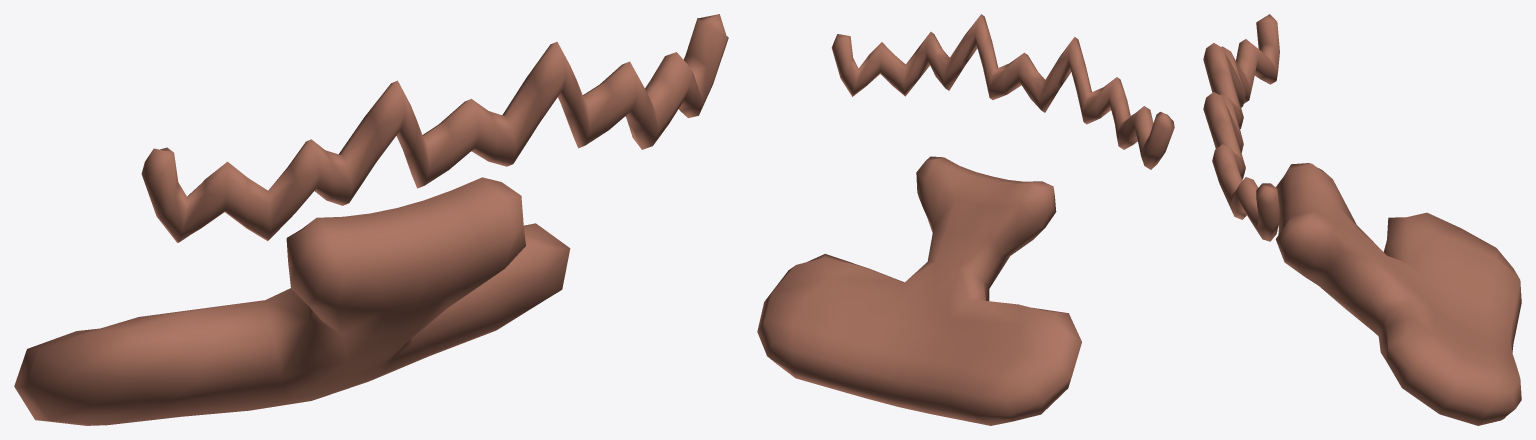
3 renders of one model, left to right at view 1: azimuth 30°, elevation 25°; view 2: azimuth 150°, elevation 25°; view 3: azimuth 270°, elevation 25°, orthographic. The views are drawn at different scales.
Parts seen in each view (by area): view 1: beard_person_2; view 2: beard_person_2; view 3: beard_person_2.
Part boxes in pixels (x1=…): beard_person_2: x1=14, y1=14, x2=728, y2=425; beard_person_2: x1=757, y1=14, x2=1174, y2=425; beard_person_2: x1=1203, y1=14, x2=1521, y2=425.
Size of the model in its own units: 0.699 by 0.5648 by 0.5273.
